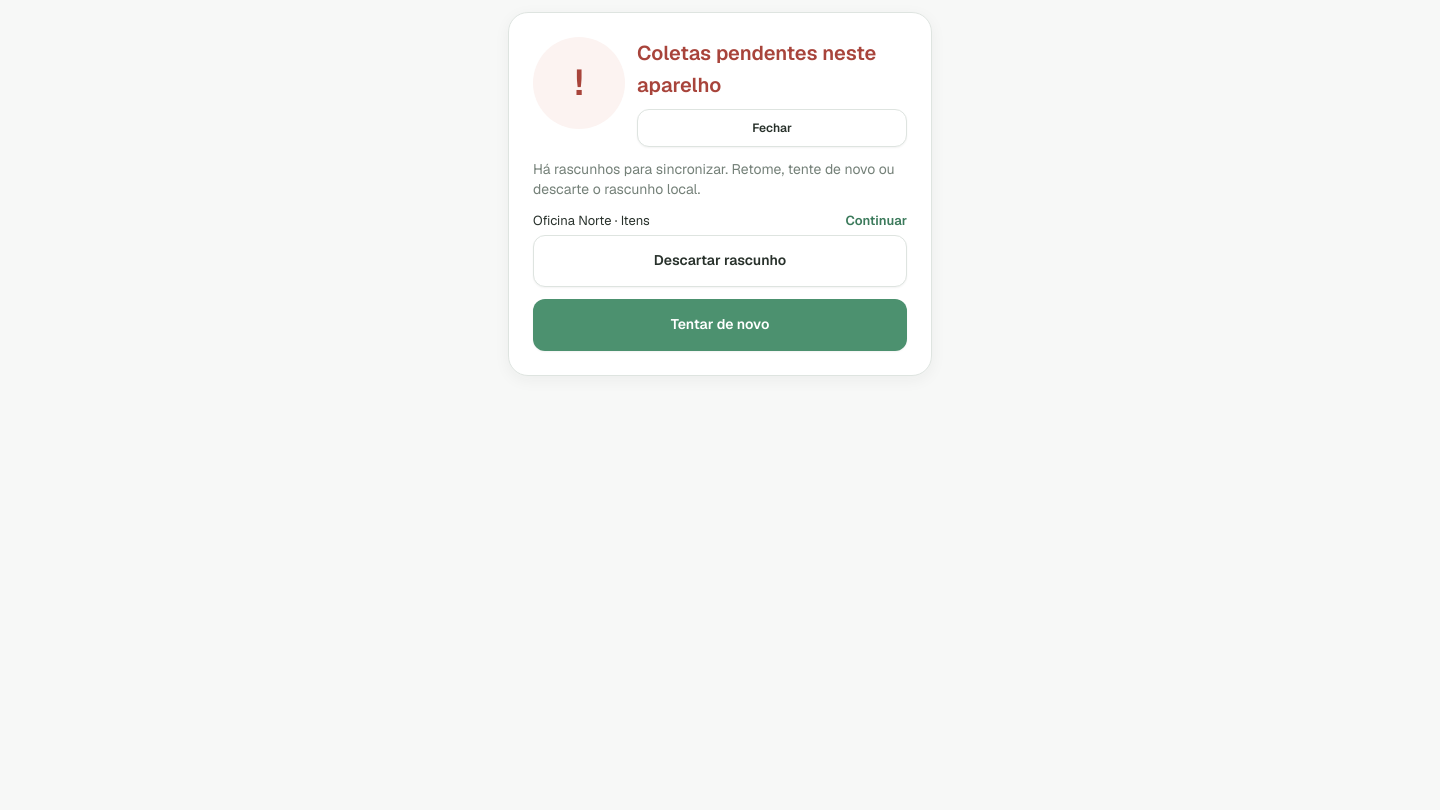
Test: OfflinePendingBanner online drain › shows an error when discardLocalDraft fails and keeps the row
What coordinates should you click on to do the following:
click the button "Descartar rascunho"
I would click on:
 (720, 260)
Its box is x1=533 y1=234 x2=907 y2=286.
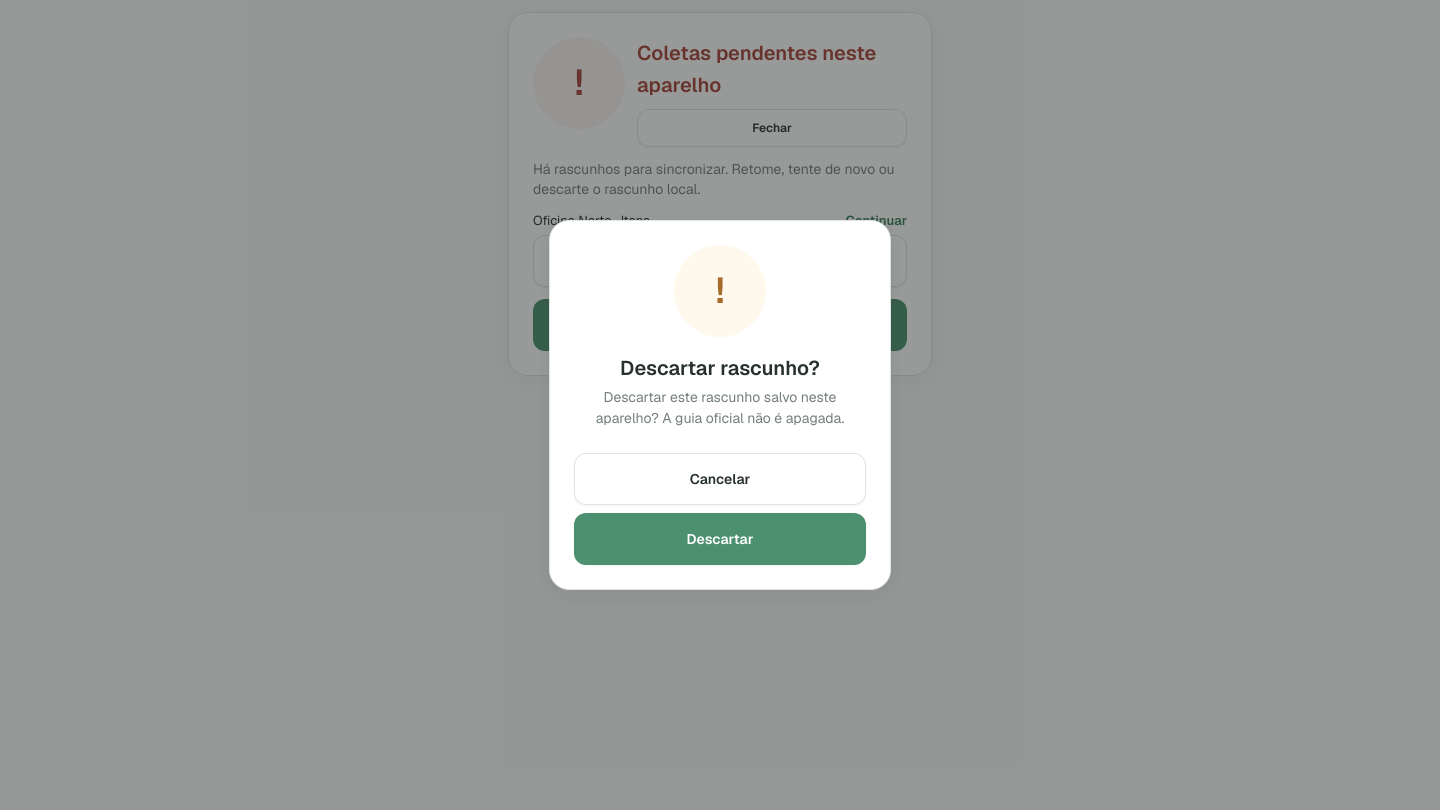
Now the dialog "Descartar rascunho?" is shown, box x1=549 y1=220 x2=891 y2=590
What coordinates should you click on to do the following:
click the button "Descartar"
I would click on:
 (720, 539)
Its box is x1=574 y1=513 x2=866 y2=565.
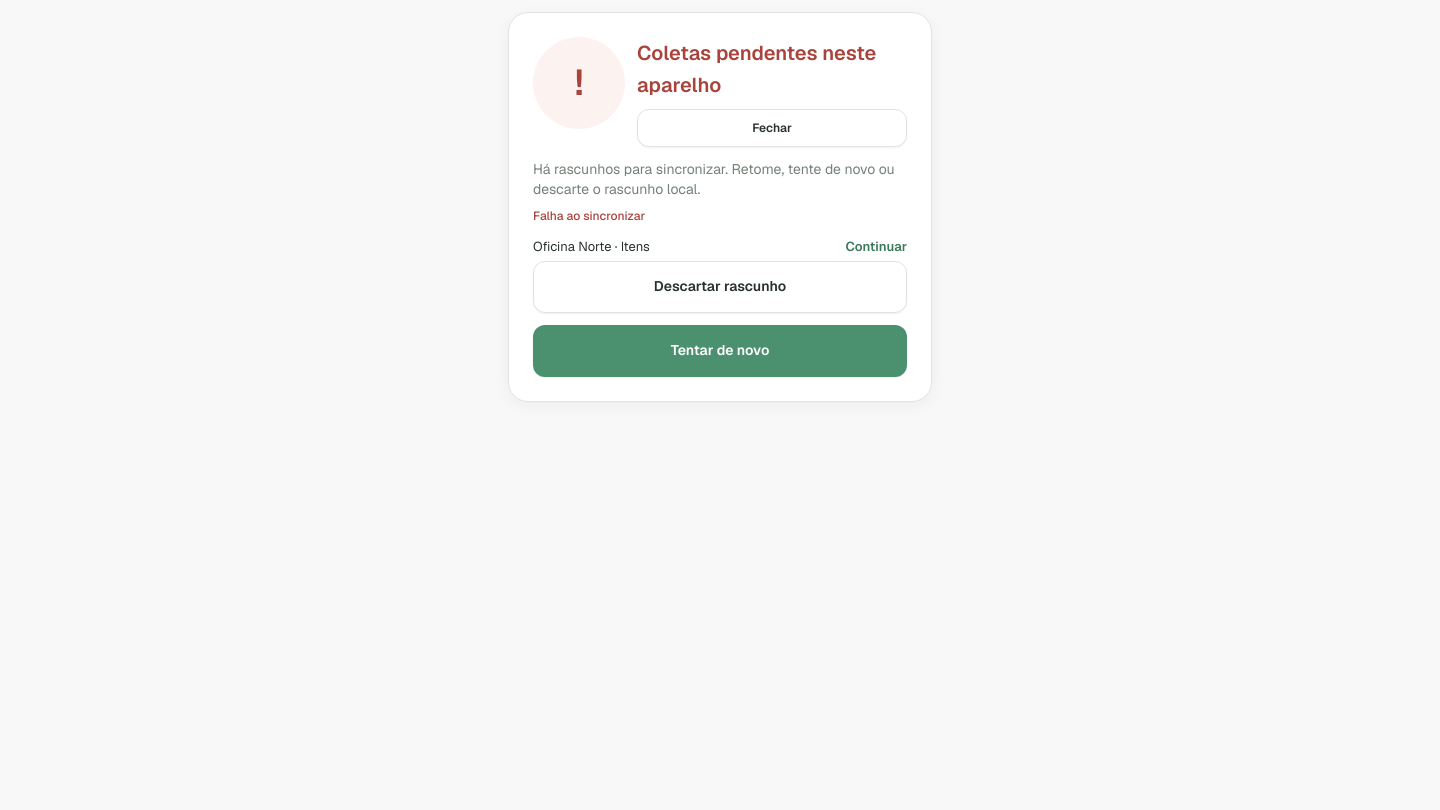
Expected: the text "Oficina Norte · Itens" is shown, x1=533 y1=237 x2=650 y2=256
Now the text "Falha ao sincronizar" is shown, box x1=533 y1=208 x2=645 y2=224
